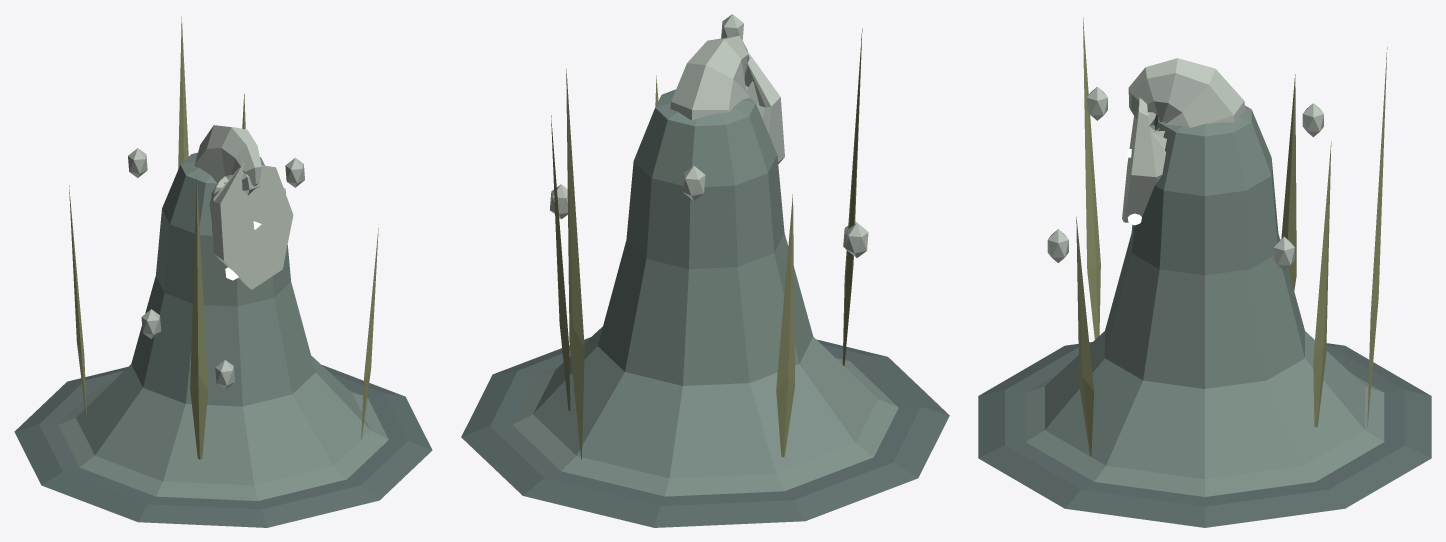
The model's file is aspect-flood.glb.
The picture shows the model from 3 angles, left to right: view 1: azimuth 30°, elevation 25°; view 2: azimuth 150°, elevation 25°; view 3: azimuth 270°, elevation 25°; orthographic projection. The views are drawn at different scales.
Visible parts, largest first — view 1: flood_body; view 2: flood_body; view 3: flood_body.
Part boxes in pixels (bbox=[...]): flood_body: bbox=[14, 16, 432, 527]; flood_body: bbox=[461, 14, 949, 527]; flood_body: bbox=[978, 17, 1431, 527].
Size of the model in its own units: 0.68 by 0.64 by 0.6467.
